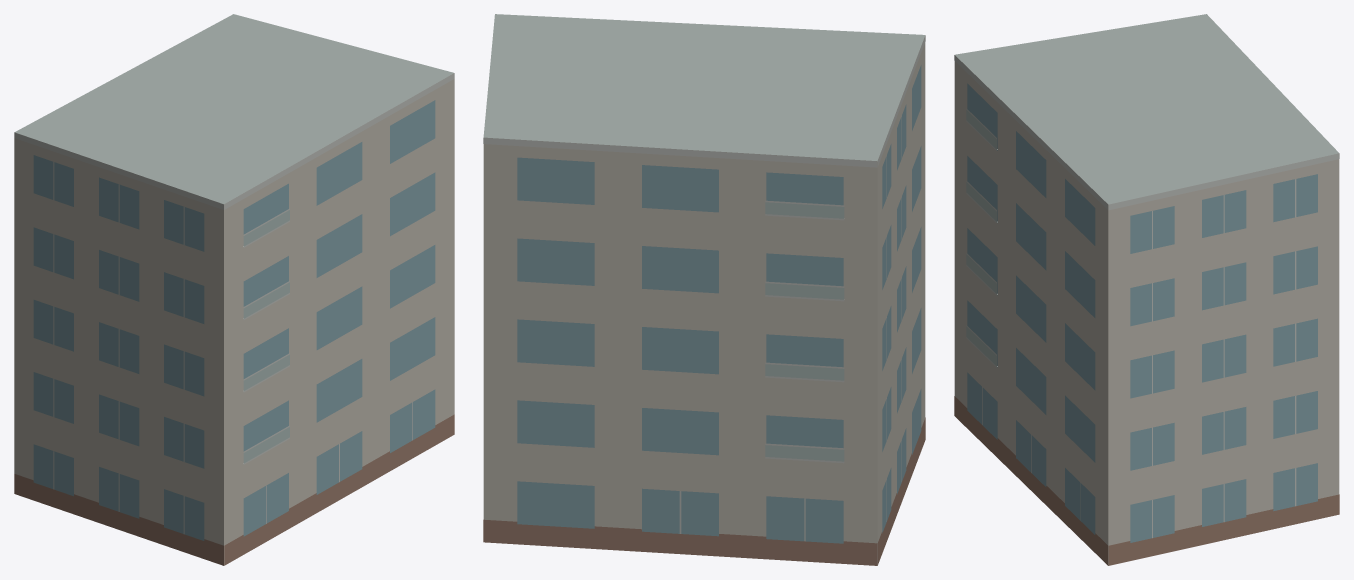
Rendered from residential-1a7cb218-8489-4f65-a012-473d24c9fd5d.glb.
The picture shows the model from 3 angles, left to right: view 1: azimuth 30°, elevation 25°; view 2: azimuth 150°, elevation 25°; view 3: azimuth 270°, elevation 25°; orthographic projection. The views are drawn at different scales.
Visible parts, largest first — view 1: residential-1a7cb218-8489-4f65-a012-473d24c9fd5d.tmp; view 2: residential-1a7cb218-8489-4f65-a012-473d24c9fd5d.tmp; view 3: residential-1a7cb218-8489-4f65-a012-473d24c9fd5d.tmp.
Boxes of the visible parts, <box> form: residential-1a7cb218-8489-4f65-a012-473d24c9fd5d.tmp: <box>14,14,454,565</box>; residential-1a7cb218-8489-4f65-a012-473d24c9fd5d.tmp: <box>483,14,925,565</box>; residential-1a7cb218-8489-4f65-a012-473d24c9fd5d.tmp: <box>954,14,1339,565</box>.
Bounding box in the file's own units: 17.27 × 15.25 × 14.74.
